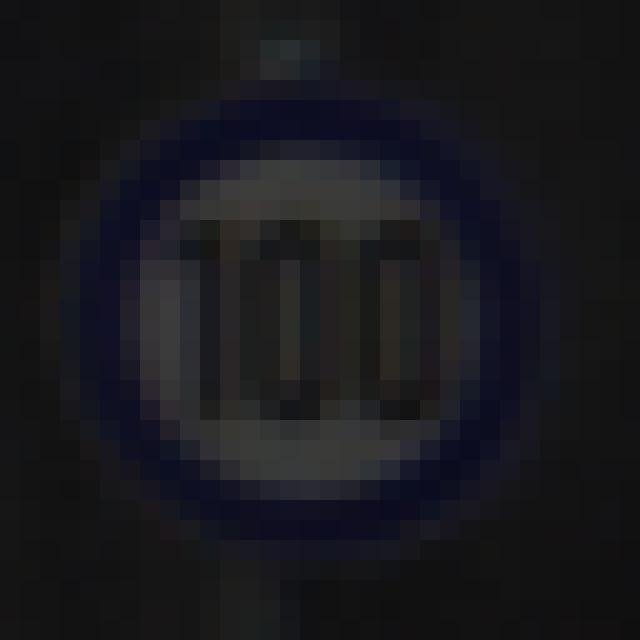SPEED LIMIT 100: (72, 95, 528, 540)
